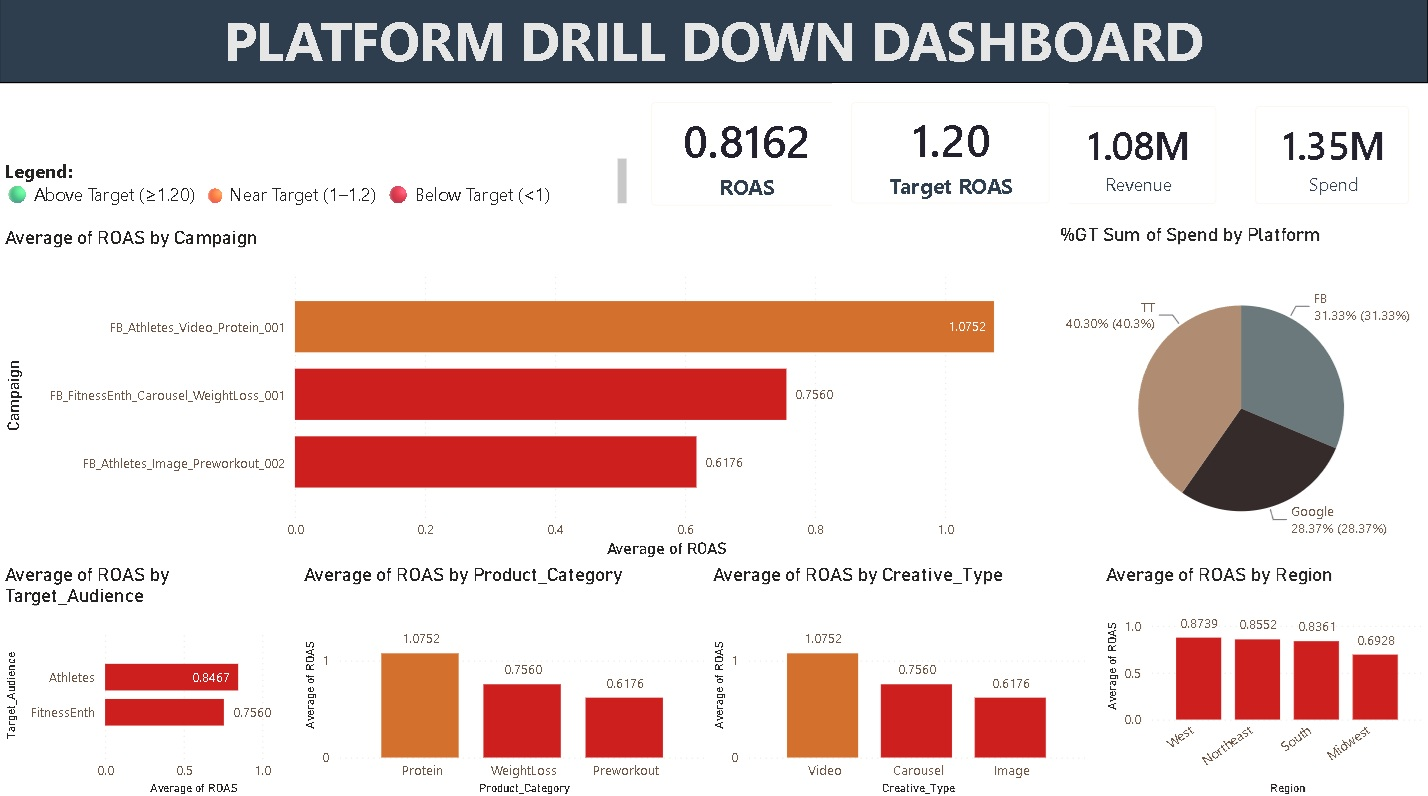

What the dashboard file says about the page in this screenshot:
{"tool":"powerbi","page":{"name":"Channel Drill Down","canvas":[1280,720],"ordinal":3},"visuals":[{"type":"cardVisual","fields":{"Data":["Sum(Sheet1.Spend)"]},"box":[1107.8,81.1,172.2,122.2],"z":0},{"type":"cardVisual","fields":{"Data":["Avg(Sheet1.ROAS)"]},"box":[566.7,77.8,204.4,127.8],"z":1000},{"type":"clusteredColumnChart","fields":{"Category":["Sheet1.Creative_Type"],"Y":["Avg(Sheet1.ROAS)"]},"box":[634,507.8,345.6,212.2],"z":2000},{"type":"clusteredBarChart","fields":{"Category":["Sheet1.Target_Audience"],"Y":["Avg(Sheet1.ROAS)"]},"box":[0,507.8,267.8,212.2],"z":4000},{"type":"columnChart","fields":{"Category":["Sheet1.Product_Category"],"Y":["Avg(Sheet1.ROAS)"]},"box":[267.8,507.8,372.2,212.2],"z":5000},{"type":"textbox","box":[0,0,1280,77.8],"z":6000},{"type":"cardVisual","fields":{"Data":["Sum(Sheet1.Revenue)"]},"box":[931.1,81.1,176.7,122.2],"z":7000},{"type":"cardVisual","fields":{"Data":["Sheet1.Target ROA"]},"box":[745.6,77.8,212.2,125.6],"z":8000},{"type":"textbox","box":[0,141,567,65],"z":9000},{"type":"pieChart","fields":{"Y":["Divide(Sum(Sheet1.Spend), ScopedEval(Sum(Sheet1.Spend), []))"],"Category":["Sheet1.Campaign"]},"box":[945,206,335,302],"z":10000},{"type":"listSlicer","fields":{"Values":["Sheet1.Region"]},"box":[0,203.3,229.1,287.3],"z":11000},{"type":"barChart","fields":{"Category":["Sheet1.Campaign"],"Y":["Avg(Sheet1.ROAS)"]},"box":[0,204,945,302],"z":12000}]}

Visuals, with their boxes in screenshot pixels (x1, y1, x2, y2), scaled from the page's 1280x720 canvas onto the 1428x796 screenshot:
cardVisual - Sum(Sheet1.Spend): locate(1236, 90, 1427, 225)
cardVisual - Avg(Sheet1.ROAS): locate(632, 86, 860, 227)
clusteredColumnChart - Sheet1.Creative_Type x Avg(Sheet1.ROAS): locate(707, 561, 1093, 795)
clusteredBarChart - Sheet1.Target_Audience x Avg(Sheet1.ROAS): locate(0, 561, 299, 795)
columnChart - Sheet1.Product_Category x Avg(Sheet1.ROAS): locate(299, 561, 714, 795)
textbox: locate(0, 0, 1427, 86)
cardVisual - Sum(Sheet1.Revenue): locate(1039, 90, 1236, 225)
cardVisual - Sheet1.Target ROA: locate(832, 86, 1069, 225)
textbox: locate(0, 156, 633, 228)
pieChart - Divide(Sum(Sheet1.Spend), ScopedEval(Sum(Sheet1.Spend), [])) x Sheet1.Campaign: locate(1054, 228, 1427, 562)
listSlicer - Sheet1.Region: locate(0, 225, 256, 542)
barChart - Sheet1.Campaign x Avg(Sheet1.ROAS): locate(0, 226, 1054, 559)
